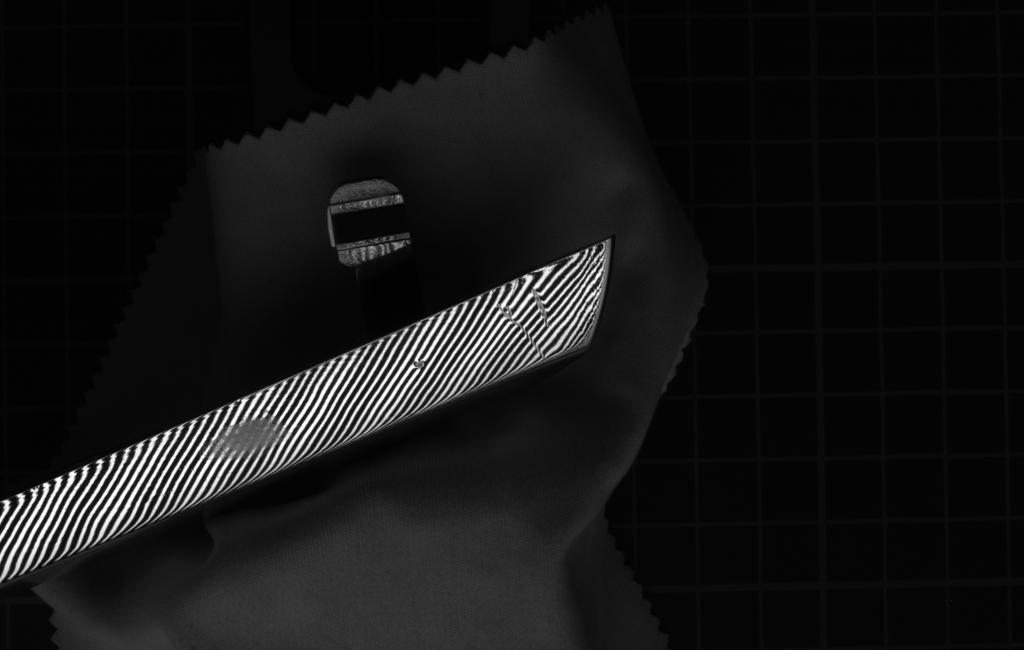Pierced: (407, 354, 432, 374)
Pitting: (199, 399, 301, 471)
Scratch: (493, 296, 552, 372), (523, 279, 553, 338)
